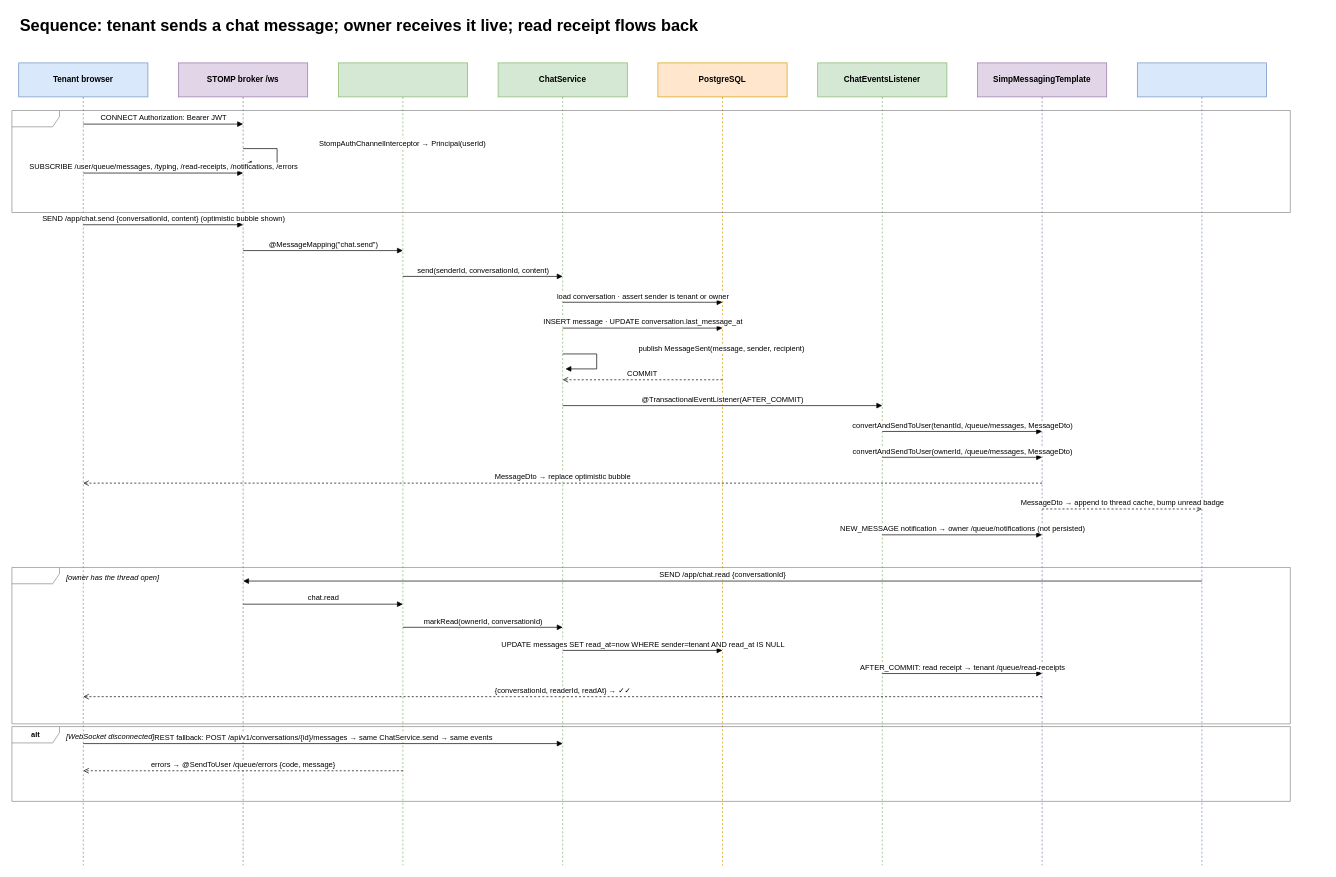
The diagram is 1336 pixels wide and 877 high, and some of its shapes have lost their labels. Here are the shapes that lost their labels. From the top down, the box of each, then its label:
(11, 110, 1290, 213): connect
(338, 62, 468, 865): ChatWebSocketController
(1137, 62, 1266, 865): Owner browser
(11, 567, 1290, 724): read
